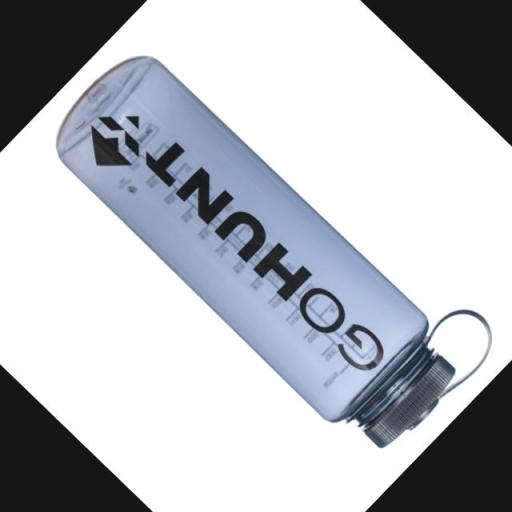bottle: (17, 2, 512, 491)
